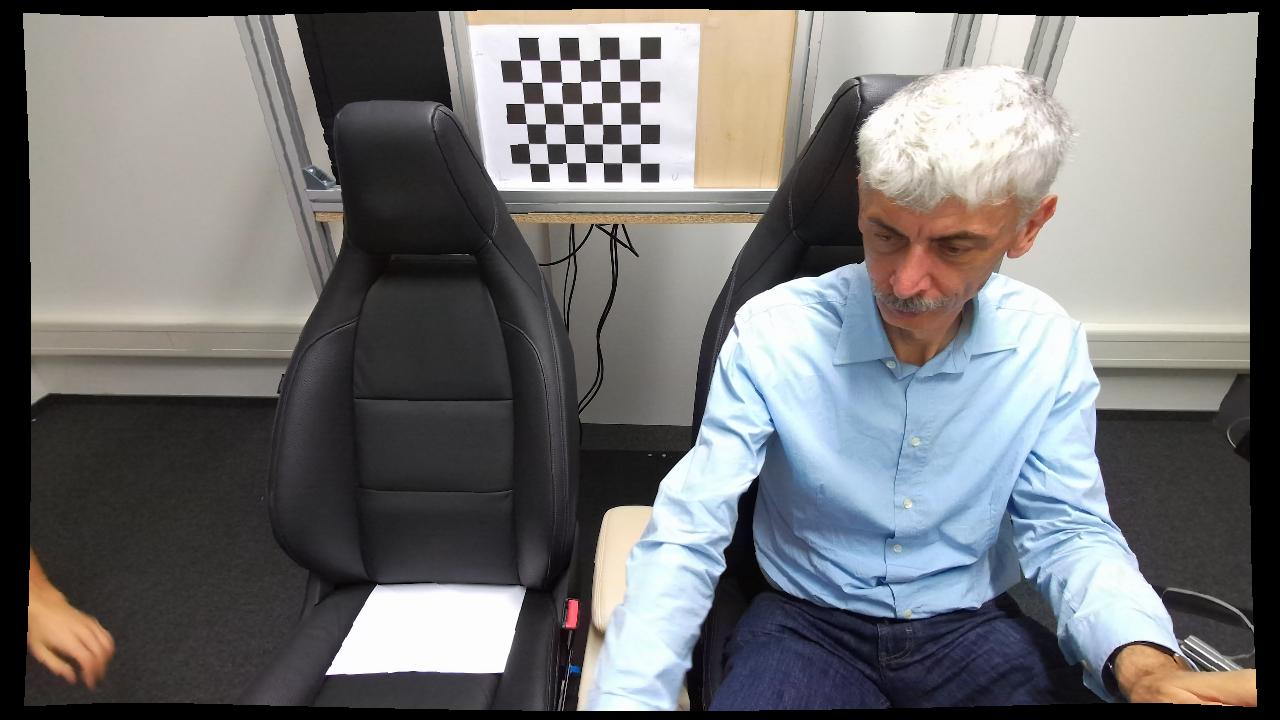Distracted: (582, 62, 1126, 715)
